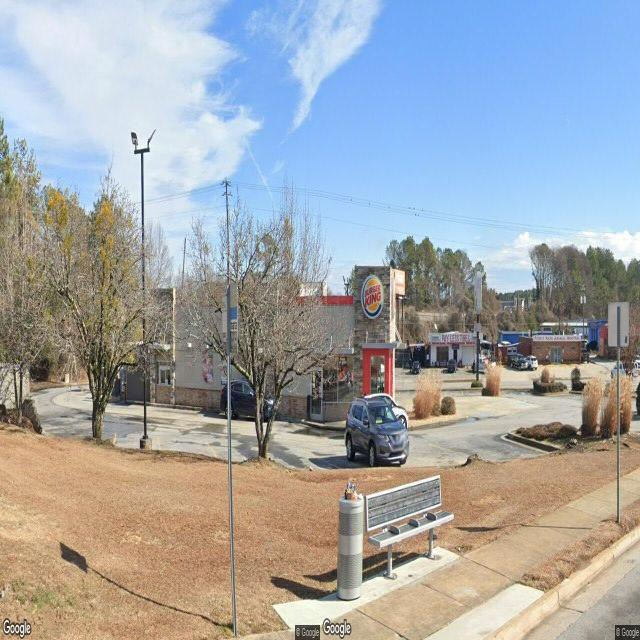seating: (364, 474, 454, 578)
trash_can: (338, 490, 363, 600)
